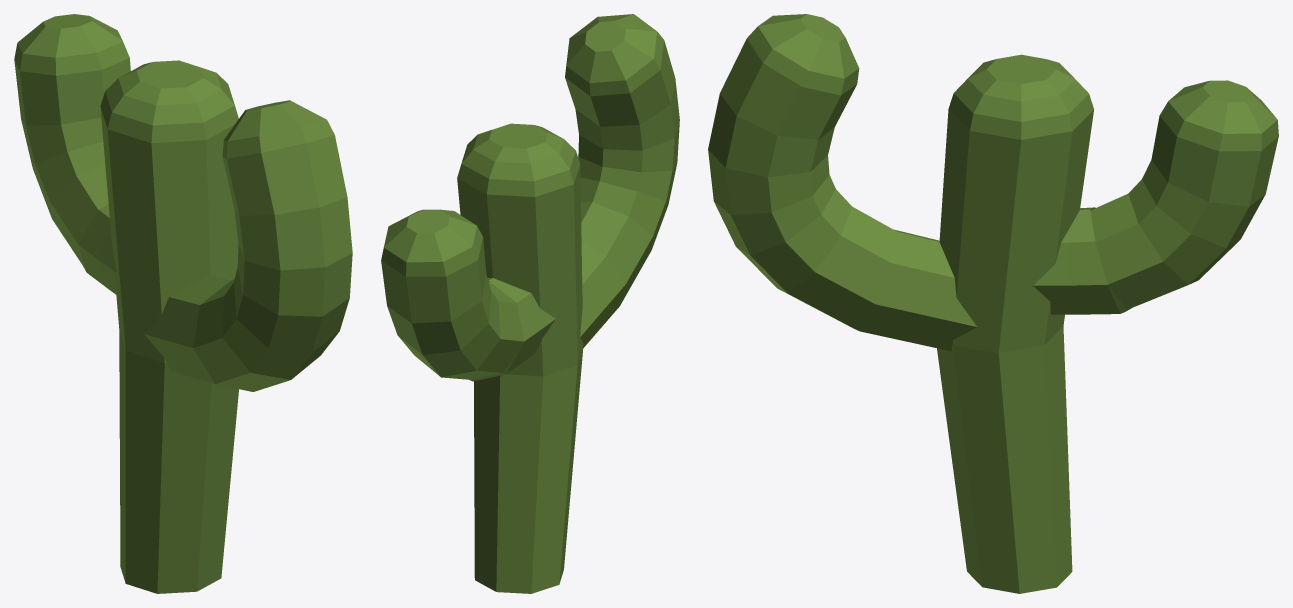
The model's file is cactus.fbx.
The picture shows the model from 3 angles, left to right: view 1: azimuth 30°, elevation 25°; view 2: azimuth 150°, elevation 25°; view 3: azimuth 270°, elevation 25°; orthographic projection. The views are drawn at different scales.
Parts seen in each view (by area): view 1: right_1; view 2: right_1; view 3: right_1.
Part boxes in pixels (box(x1,y1,x2,y2)): right_1: box(14, 14, 352, 593); right_1: box(381, 14, 679, 593); right_1: box(708, 14, 1278, 593).
Bounding box in the file's own units: 62.6 × 262 × 245.
